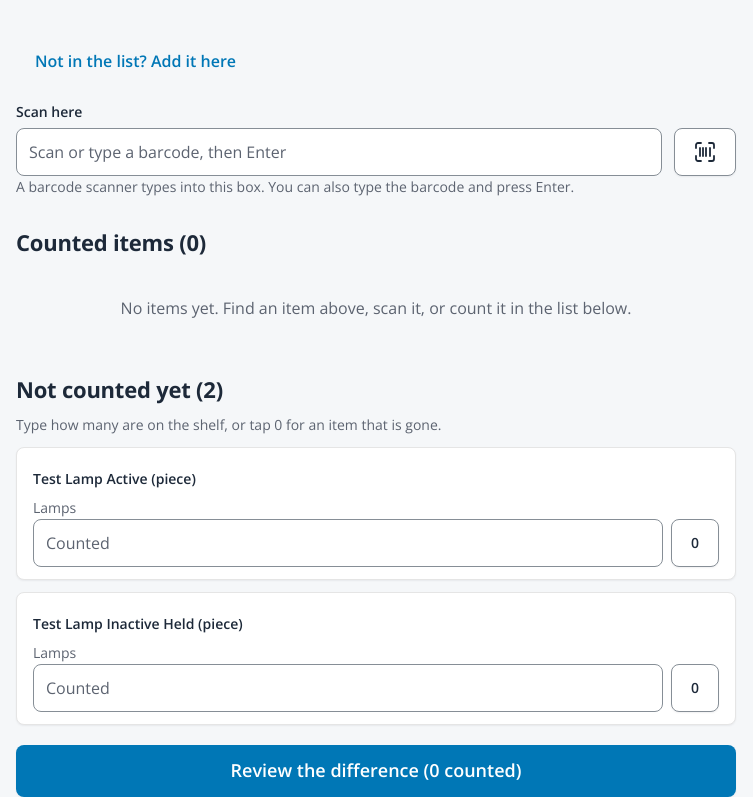
counting the sheet › goes back to the count on Keep counting, and sends nothing
The width and height of the screenshot is (753, 797).
(page scrolled)
Expected: the text "No items yet. Find an item above, scan it, or count it in the list below." is shown, [121, 297, 631, 319]
Click the button named "Count 0 of Test Lamp Inactive Held": x=695, y=688 [671, 664, 719, 712]
(page scrolled)
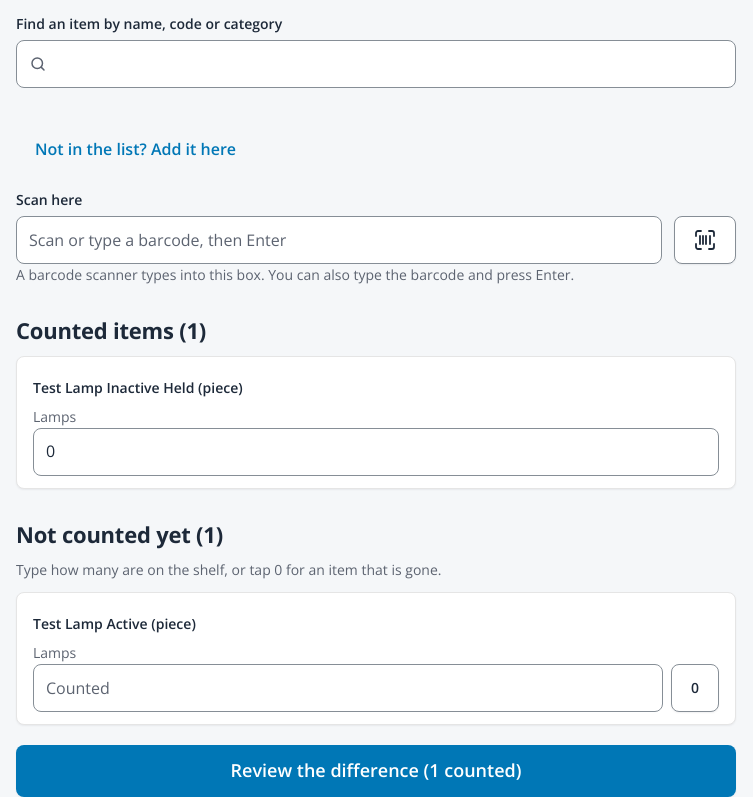
Click the button "Review the difference (1 counted)": x=376, y=771 [16, 745, 736, 796]
(page scrolled)
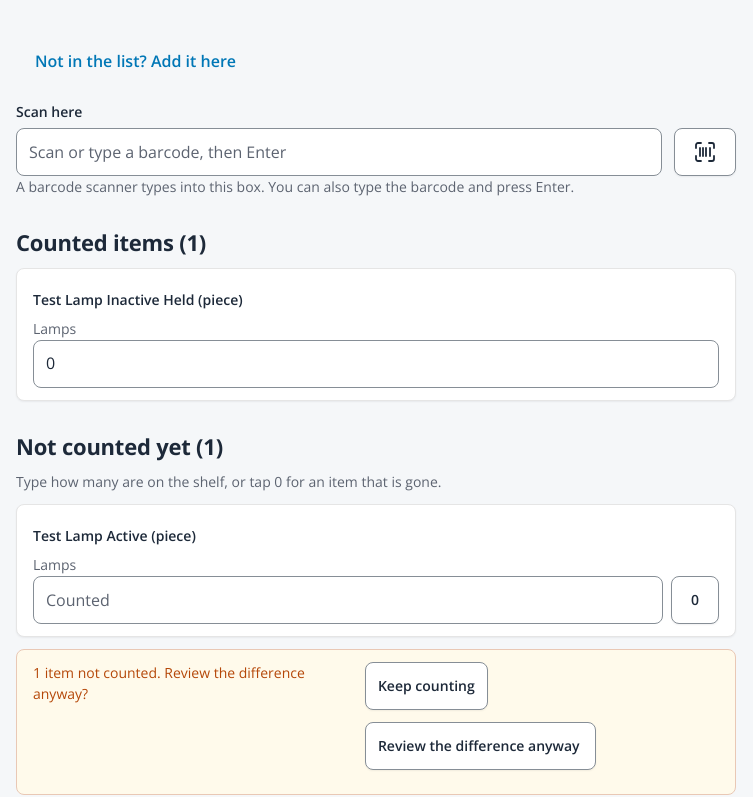
Click the button "Keep counting": x=426, y=686 [365, 662, 488, 710]
(page scrolled)
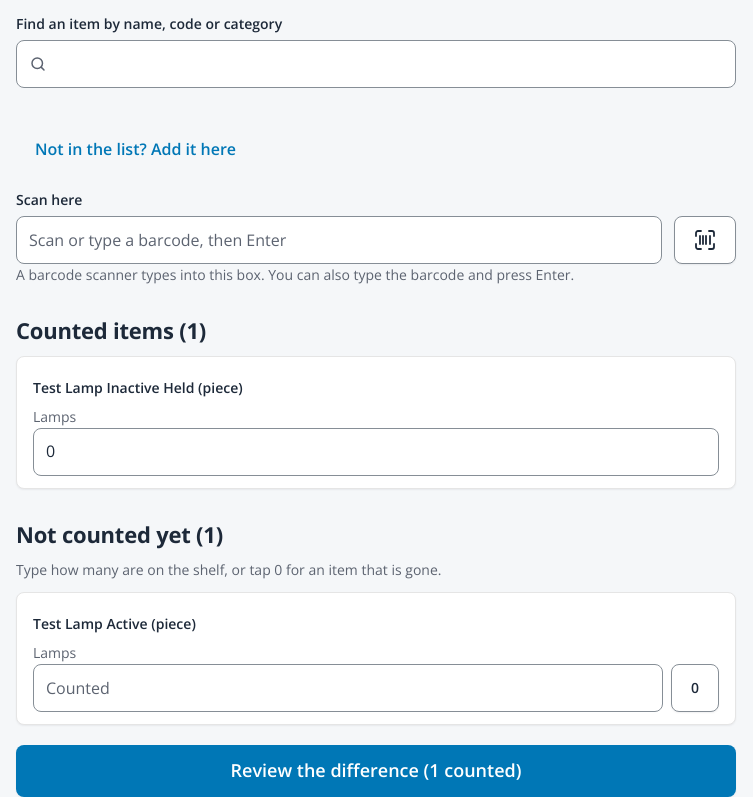
Now the message with test id "count-not-done" is gone
